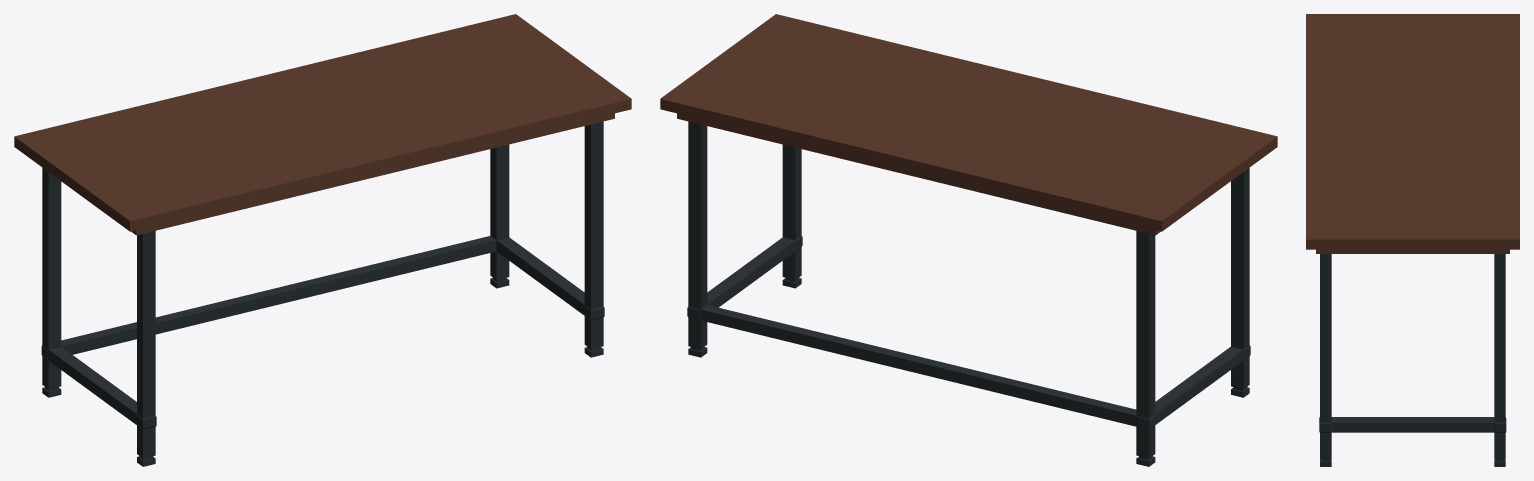
The model's file is TallDeskV2.fbx.
3 views of the same model, side by side, from view 1: azimuth 30°, elevation 25°; view 2: azimuth 150°, elevation 25°; view 3: azimuth 270°, elevation 25° (orthographic). The views are drawn at different scales.
Visible parts, largest first — view 1: TallDeskV2; view 2: TallDeskV2; view 3: TallDeskV2.
Boxes of the visible parts, bbox=[...] form: TallDeskV2: bbox=[14, 14, 631, 466]; TallDeskV2: bbox=[660, 14, 1277, 466]; TallDeskV2: bbox=[1306, 14, 1519, 466].
Bounding box in the file's own units: 200 × 97.63 × 80.
